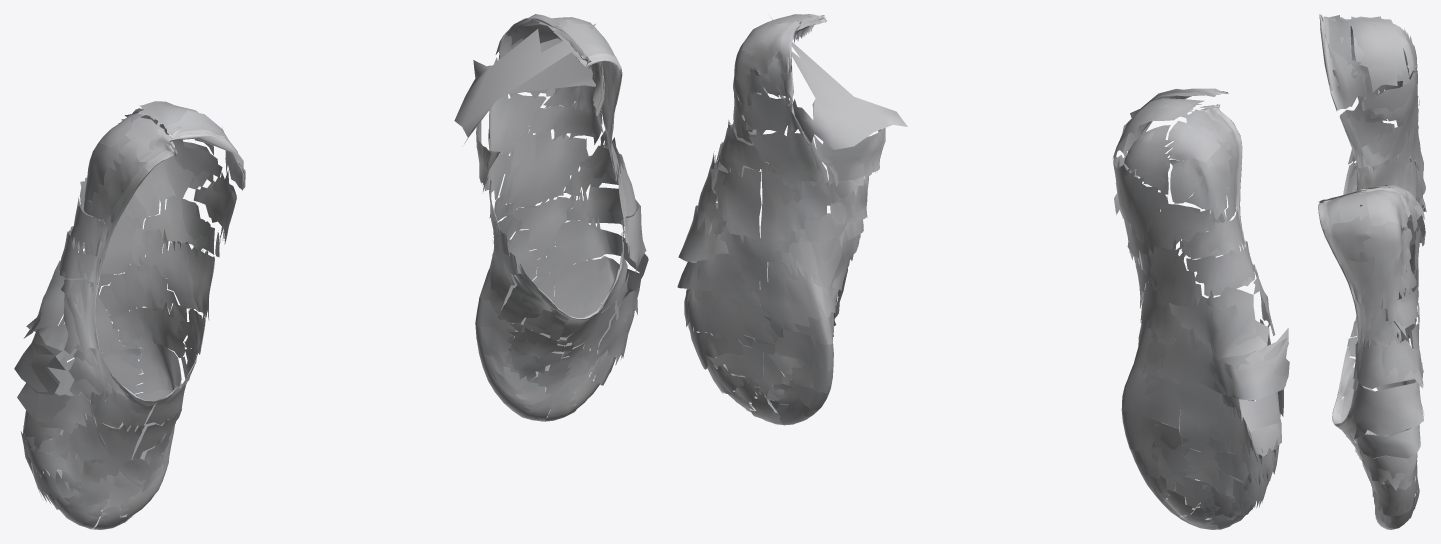
The model's file is adult-base-01.mobile.glb.
The picture shows the model from 3 angles, left to right: view 1: azimuth 30°, elevation 25°; view 2: azimuth 150°, elevation 25°; view 3: azimuth 270°, elevation 25°; orthographic projection. The views are drawn at different scales.
Parts seen in each view (by area): view 1: geometry_0; view 2: geometry_0; view 3: geometry_0.
Boxes of the visible parts, bbox=[...] form: geometry_0: bbox=[14, 14, 648, 529]; geometry_0: bbox=[677, 14, 1289, 529]; geometry_0: bbox=[1318, 14, 1426, 529].
Size of the model in its own units: 0.00387 by 0.00255 by 0.000717.
Materials: 1 (1 with a texture image).
